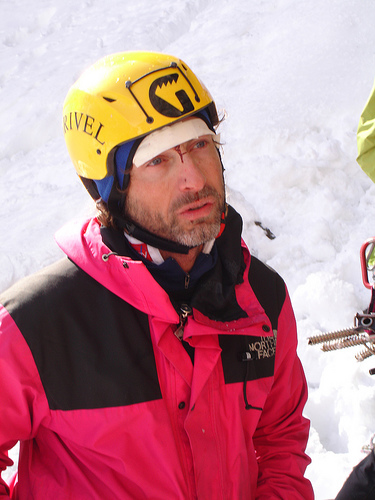helmet: (59, 52, 222, 162)
